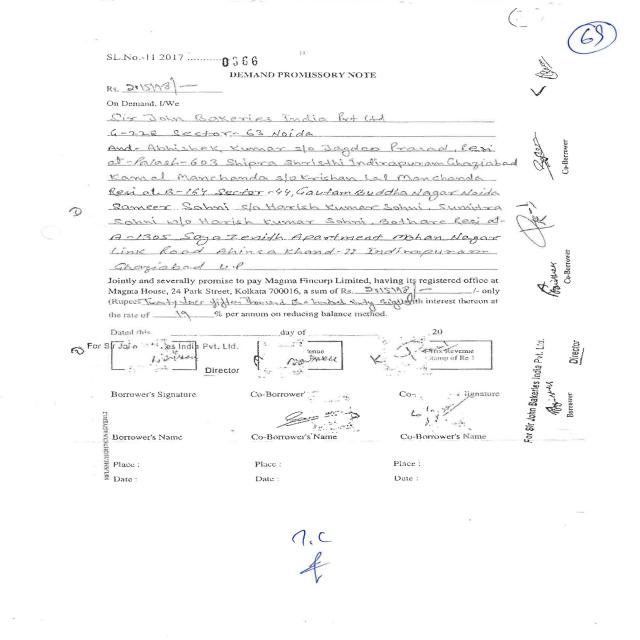page-number: (558, 6, 636, 125)
